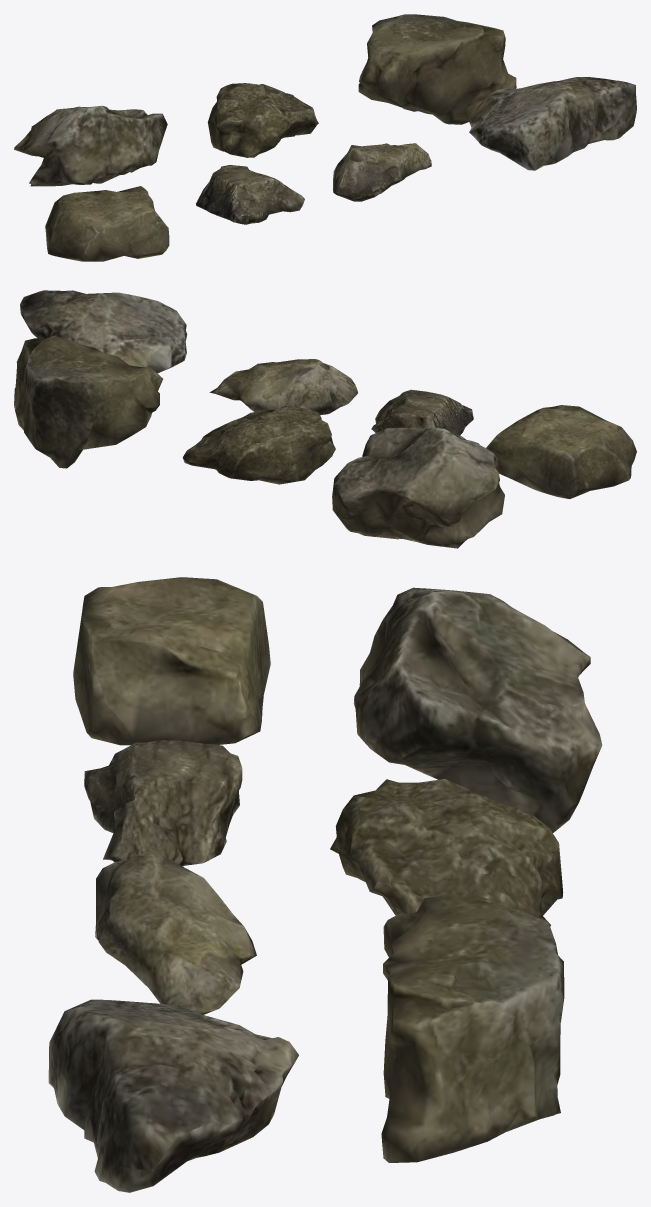
File: rock_moss_set_02.glb
3 renders of one model, top to bottom at view 1: azimuth 30°, elevation 25°; view 2: azimuth 150°, elevation 25°; view 3: azimuth 270°, elevation 25°, orthographic. The views are drawn at different scales.
Visible parts, largest first — view 1: rock_moss_set_02_rock08; view 2: rock_moss_set_02_rock08; view 3: rock_moss_set_02_rock08.
Boxes of the visible parts, x1,y1,x2,y2 form: rock_moss_set_02_rock08: (14, 14, 636, 261); rock_moss_set_02_rock08: (14, 290, 636, 548); rock_moss_set_02_rock08: (48, 577, 602, 1192).
Size of the model in its own units: 8.27 by 1.36 by 3.4.
1 material, 1 textured.
